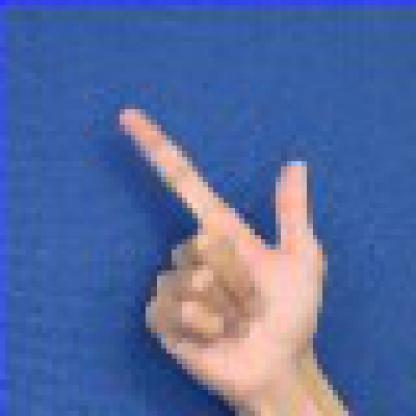seven: (99, 78, 374, 411)
